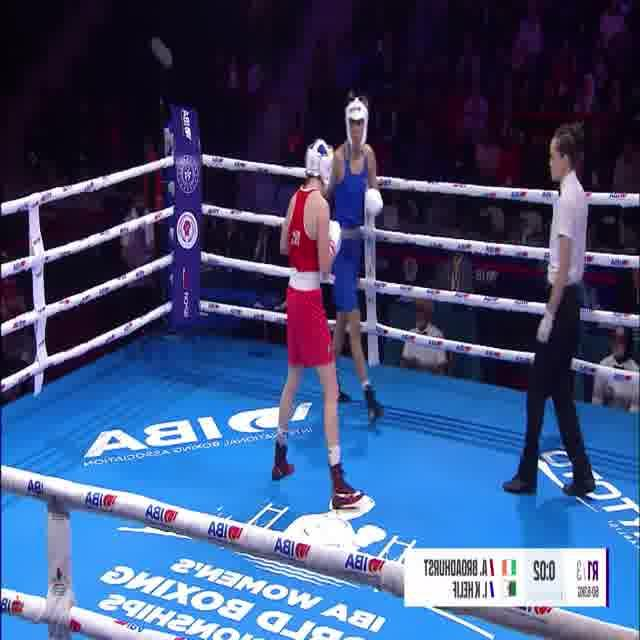blue-player: (321, 90, 388, 433)
red-player: (269, 132, 365, 510)
referee: (501, 122, 598, 500)
